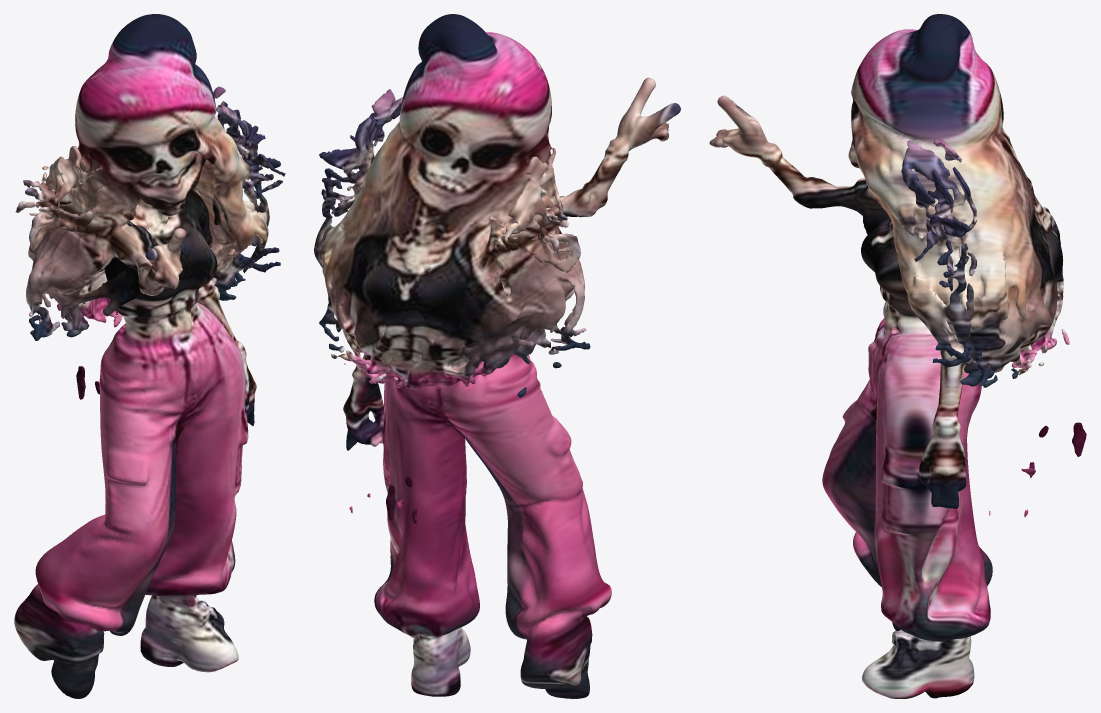
Rendered from female-hunyuan2-projected.glb.
3 renders of one model, left to right at view 1: azimuth 30°, elevation 25°; view 2: azimuth 150°, elevation 25°; view 3: azimuth 270°, elevation 25°, orthographic. The views are drawn at different scales.
Parts seen in each view (by area): view 1: PRESCOUTING_REFERENCE_female_HUNYUAN2; view 2: PRESCOUTING_REFERENCE_female_HUNYUAN2; view 3: PRESCOUTING_REFERENCE_female_HUNYUAN2.
Part boxes in pixels (x1,y1,x2,y2): PRESCOUTING_REFERENCE_female_HUNYUAN2: (14, 14, 285, 698); PRESCOUTING_REFERENCE_female_HUNYUAN2: (314, 14, 680, 698); PRESCOUTING_REFERENCE_female_HUNYUAN2: (709, 14, 1086, 698).
Bounding box in the file's own units: 0.8035 × 1.96 × 1.01.
1 material, 1 textured.
